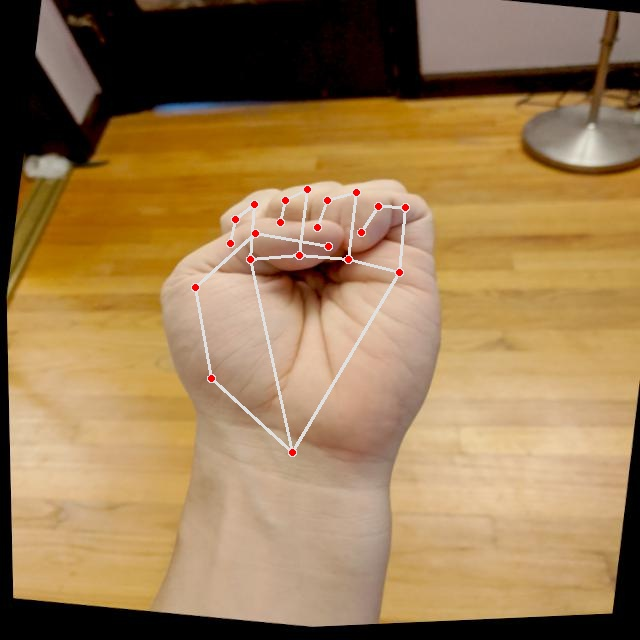E: (126, 145, 477, 494)
